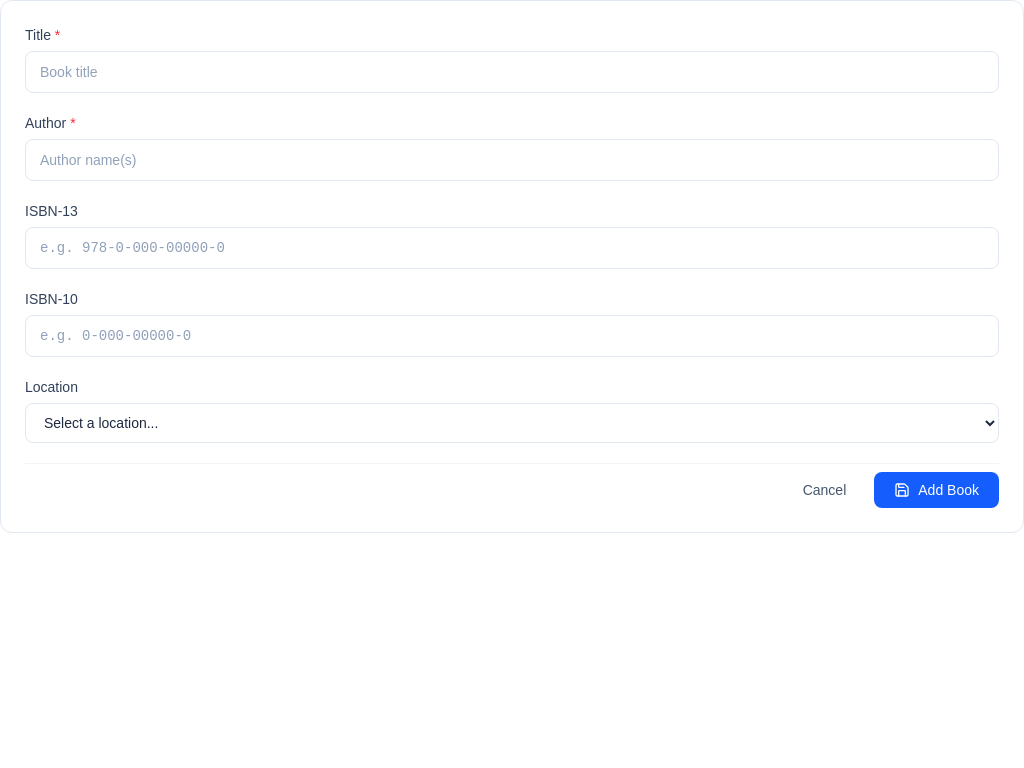
Scenario: BookForm — add mode › shows validation error when author is empty on submit
This screenshot has width=1024, height=768.
Type "A Title" into the field with placeholder "Book title". click: (512, 72)
box: [25,51,999,93]
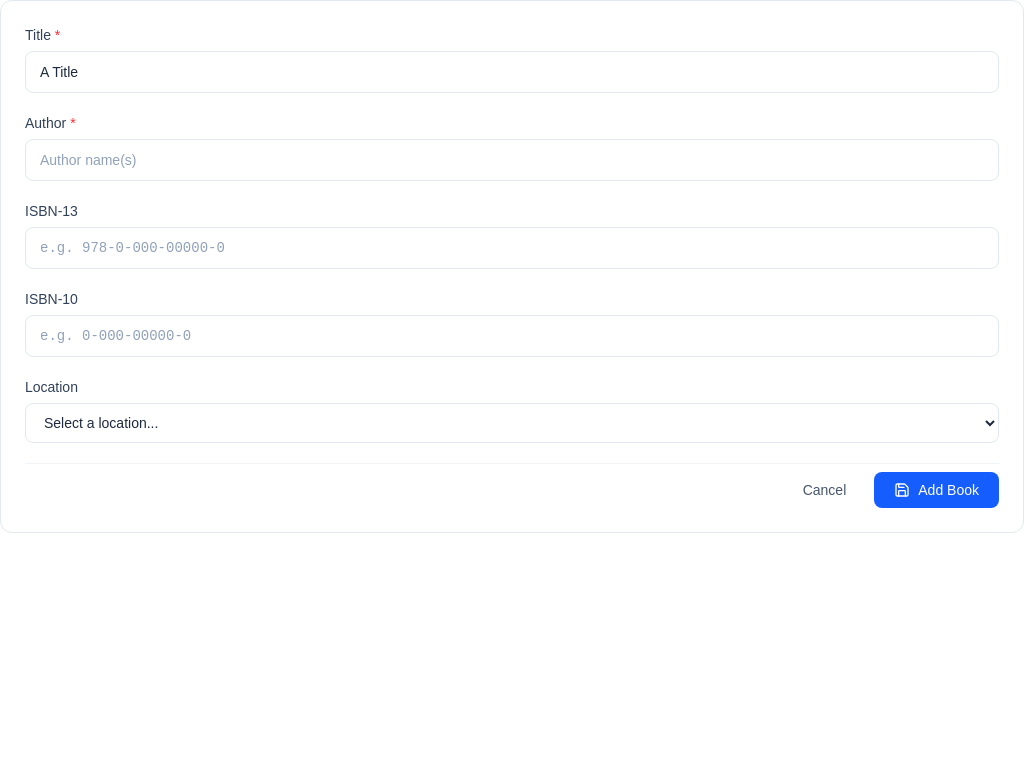
Click the button "Add Book". click: (937, 490)
box: [874,472,999,508]
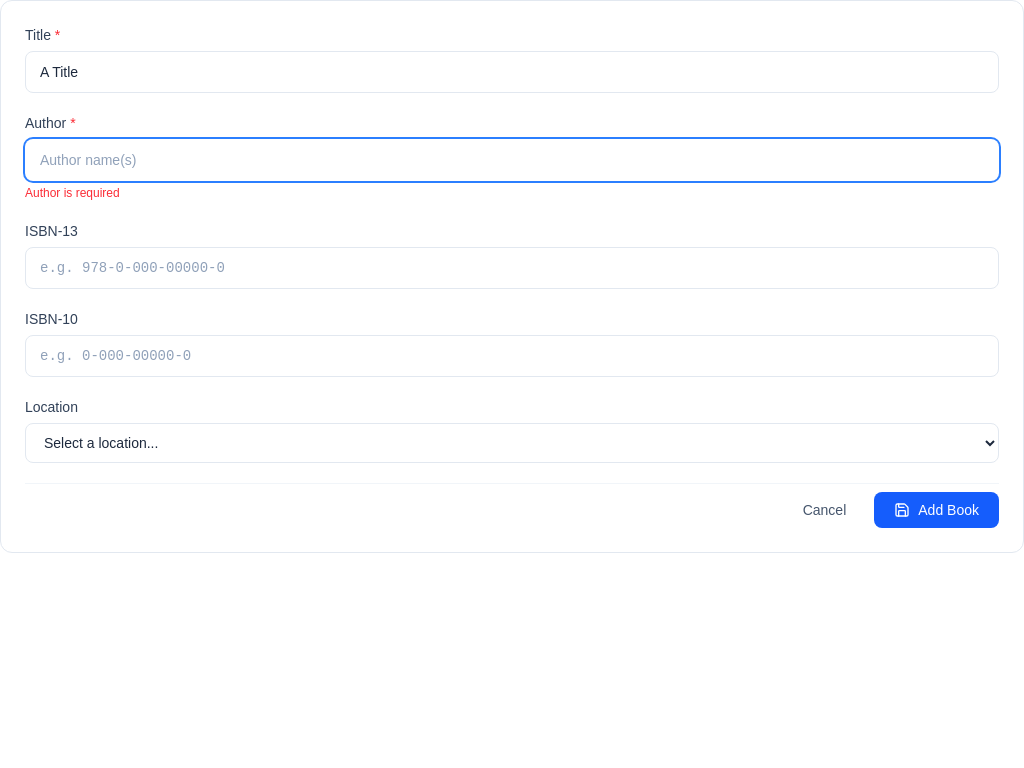
Result: the text "Author is required" is shown at [25,186,120,200]
